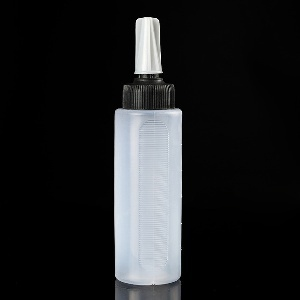emptybottle: (113, 13, 183, 285)
